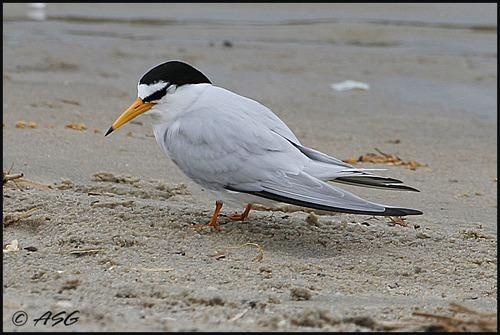bird: (103, 60, 421, 235)
